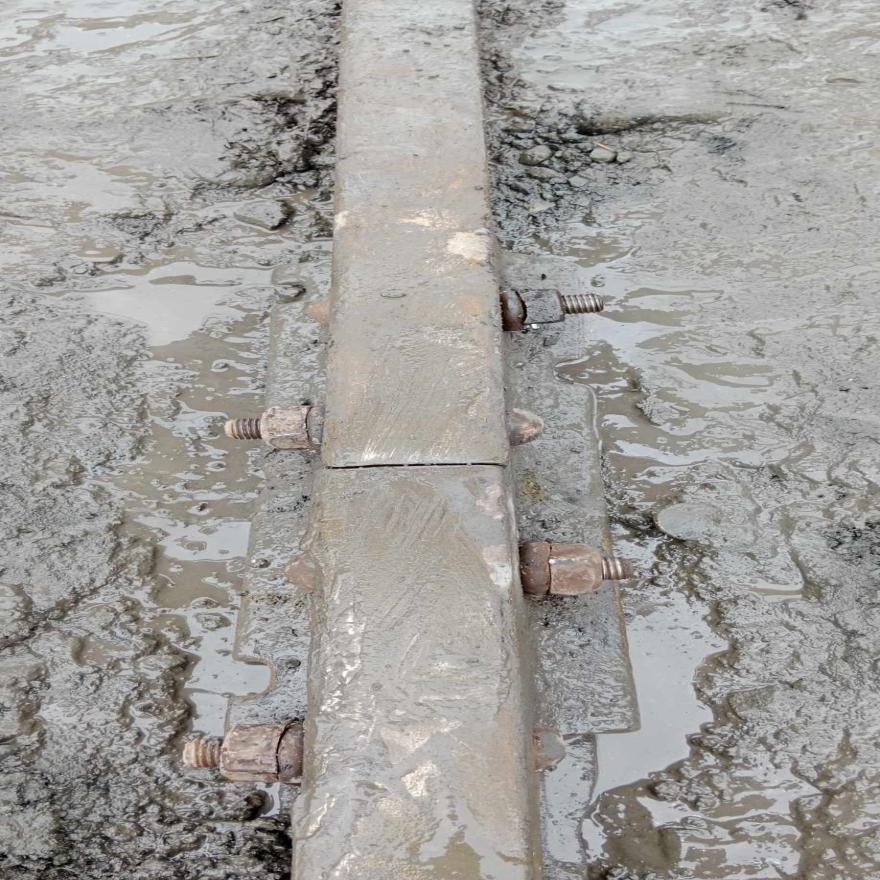railway-gap: (241, 397, 590, 536)
